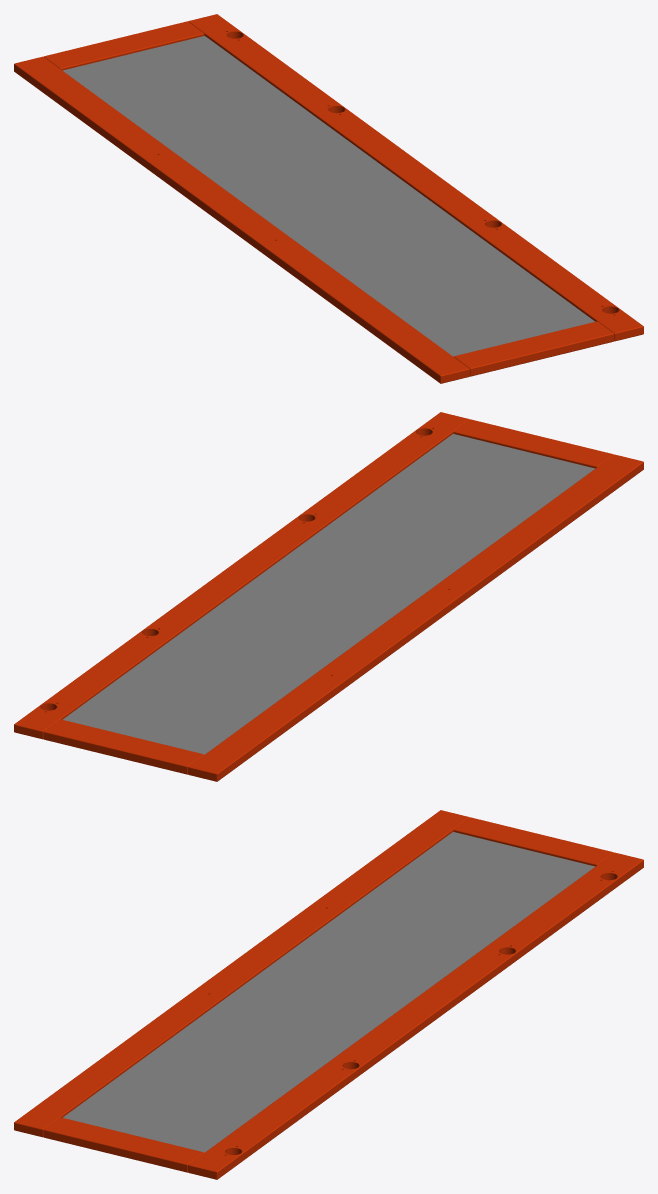
The model's file is H219-L48-Verre-Dr v1.fbx.
3 renders of one model, top to bottom at view 1: azimuth 30°, elevation 25°; view 2: azimuth 150°, elevation 25°; view 3: azimuth 330°, elevation 25°, orthographic.
Parts seen in each view (by area): view 1: Body5, Body3, Body4, Body6, Body2; view 2: Body5, Body3, Body4, Body2, Body6; view 3: Body5, Body4, Body3, Body6, Body2.
Part boxes in pixels (x1=…): Body5: x1=62, y1=35, x2=594, y2=356; Body3: x1=14, y1=56, x2=469, y2=383; Body4: x1=188, y1=14, x2=643, y2=341; Body6: x1=453, y1=321, x2=614, y2=376; Body2: x1=44, y1=21, x2=204, y2=70; Body5: x1=63, y1=433, x2=595, y2=754; Body3: x1=188, y1=454, x2=643, y2=781; Body4: x1=14, y1=412, x2=469, y2=739; Body2: x1=43, y1=719, x2=204, y2=774; Body6: x1=453, y1=419, x2=613, y2=468; Body5: x1=63, y1=831, x2=595, y2=1152; Body4: x1=188, y1=852, x2=643, y2=1179; Body3: x1=14, y1=810, x2=469, y2=1137; Body6: x1=43, y1=1117, x2=204, y2=1172; Body2: x1=453, y1=817, x2=613, y2=866.
Bounding box in the file's own units: 481 × 42 × 1746.
